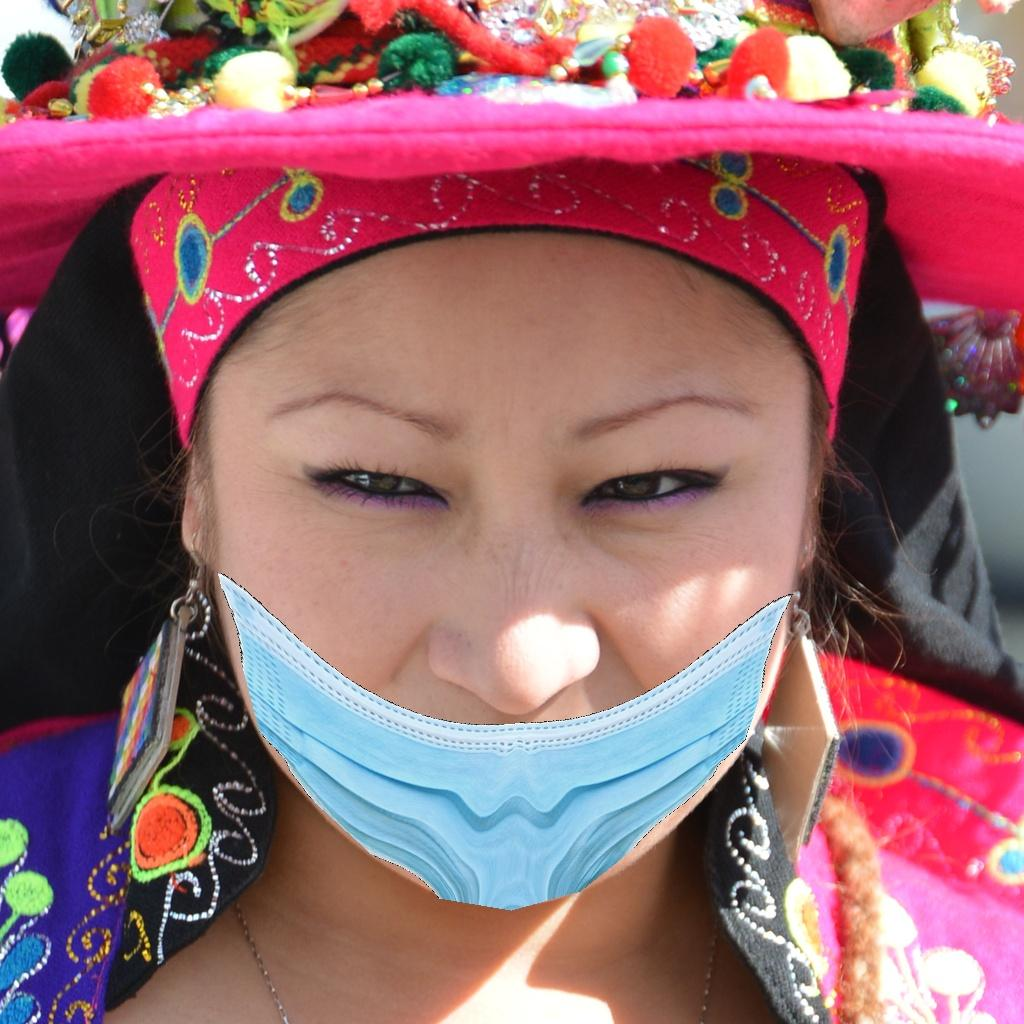Máscara Incorreta: (198, 272, 761, 869)
